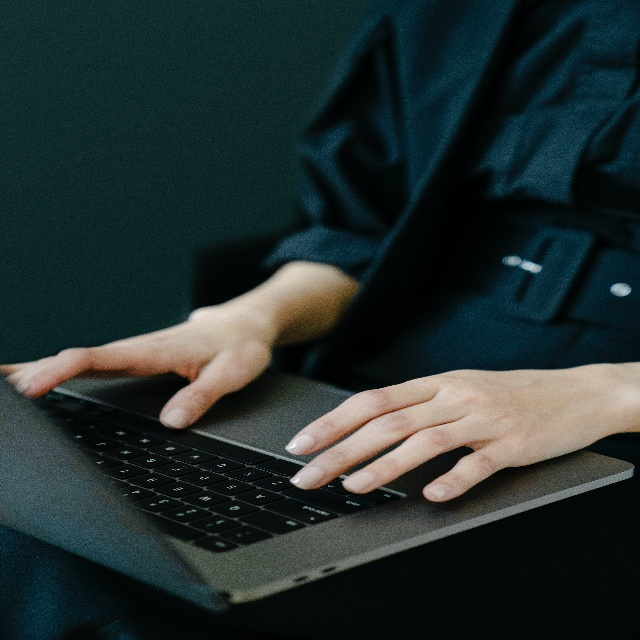Sin_guantes: (288, 370, 616, 507), (0, 298, 273, 431)
